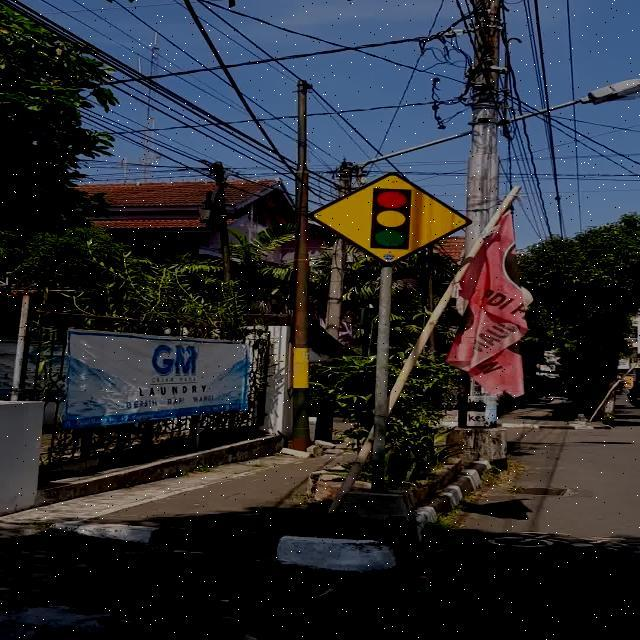Lampu Lalu Lintas: (307, 172, 472, 266)
